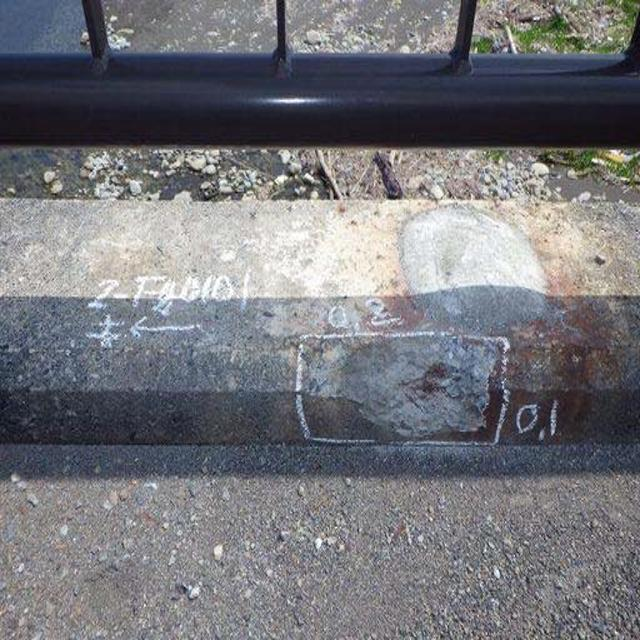spalling: (307, 346, 529, 448)
